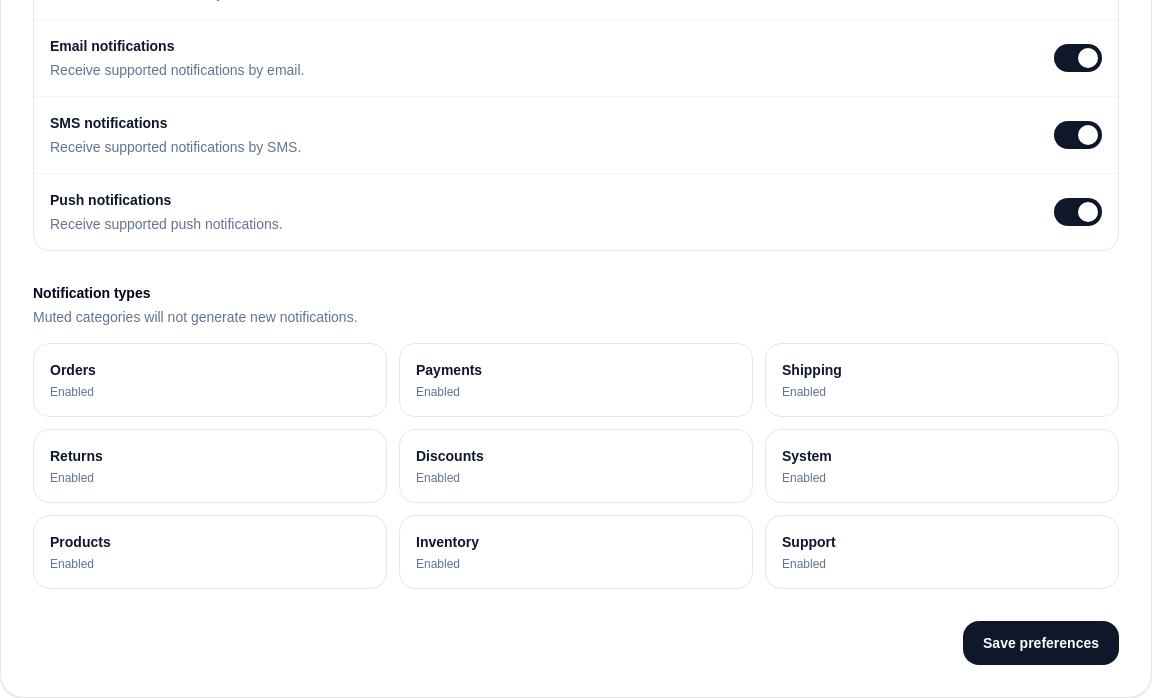
Test case: NotificationPreferencesCard › shows success message after saving
(page scrolled)
Click the button "Save preferences".
click(1041, 643)  # box [963, 621, 1119, 665]
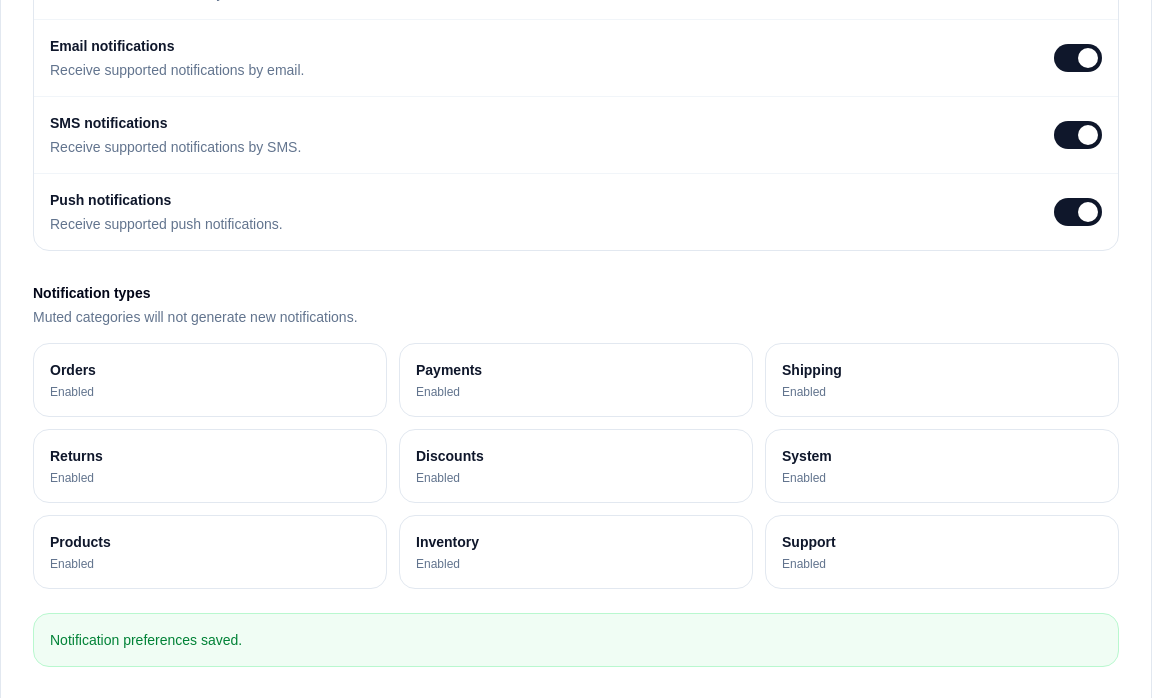
Result: the text "Notification preferences saved." is shown at [33, 613, 1119, 667]
